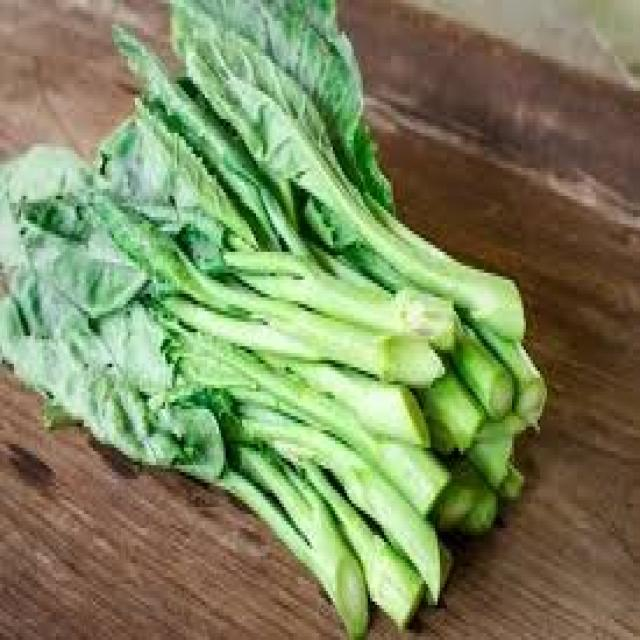collard: (26, 18, 544, 575)
